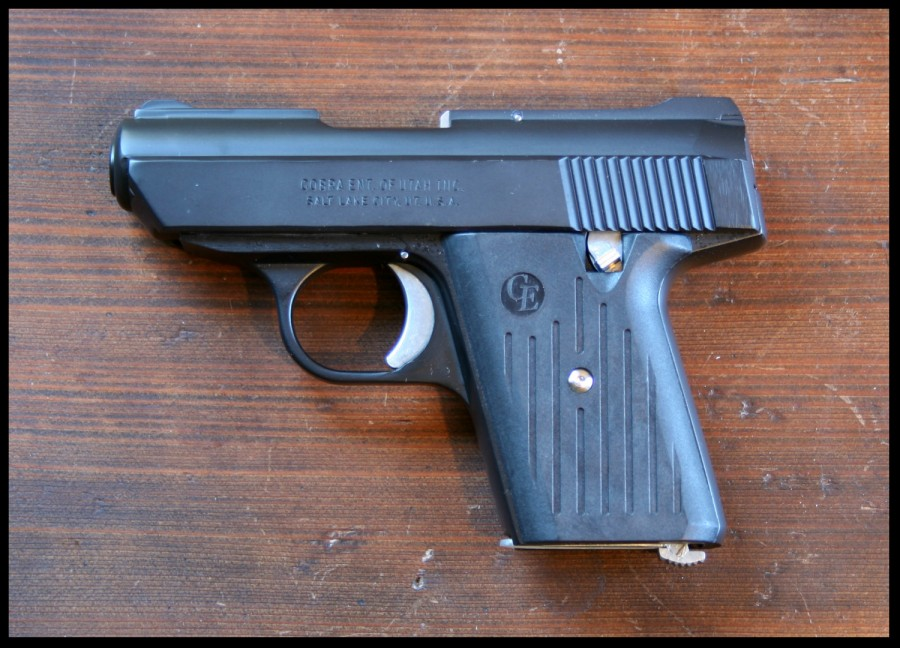pistol: (101, 94, 769, 557)
